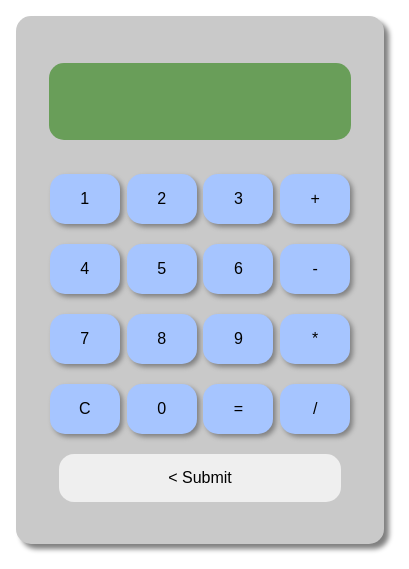
Calculator Tests › verify addition works, 1 + 1 = 2
Step 1. Click the button "1" → {"x": 85, "y": 199}, box [50,174,120,224]
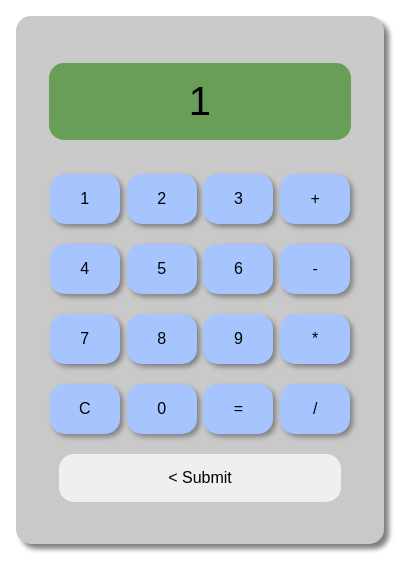
Step 2. Click the button "+" → {"x": 315, "y": 199}, box [280,174,350,224]
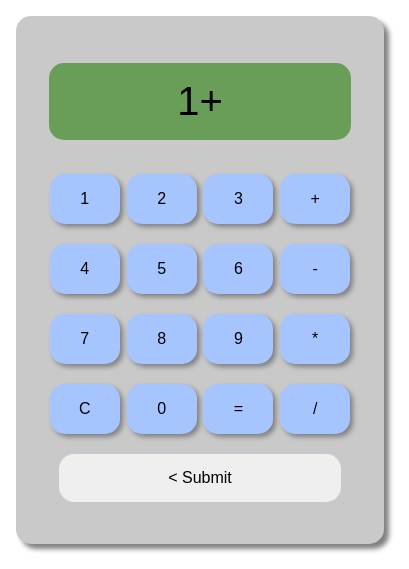
Step 3. Click the button "1" → {"x": 85, "y": 199}, box [50,174,120,224]
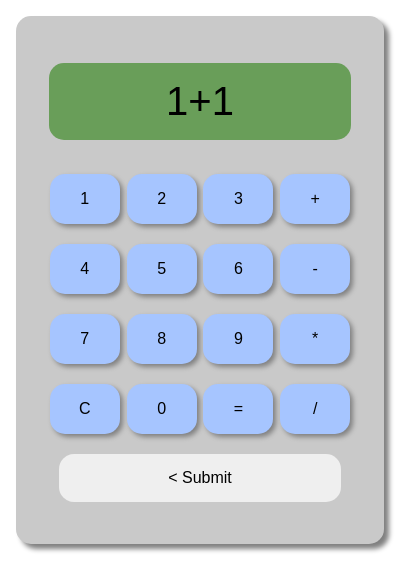
Step 4. Click the button "=" → {"x": 238, "y": 409}, box [203,384,273,434]
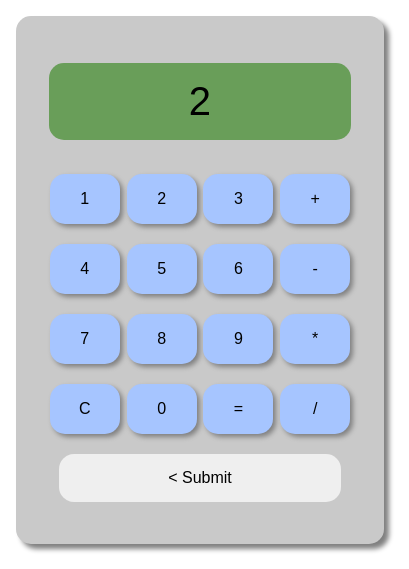
Expected: the field with test id "calcView" holds "2", [49,63,351,140]
